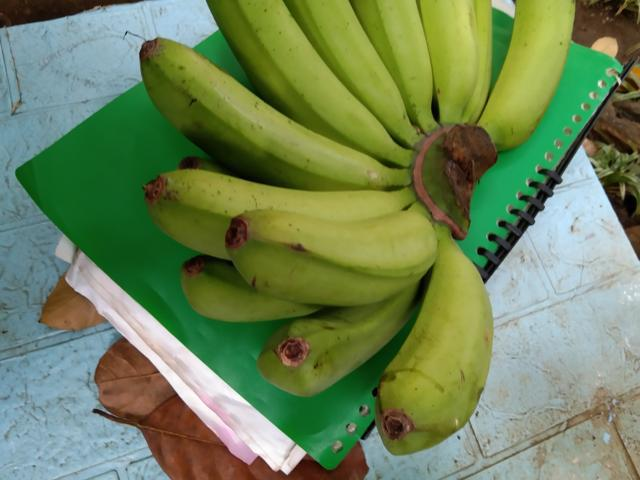freshunripe: (136, 33, 385, 188), (210, 0, 416, 160), (369, 251, 501, 463), (223, 199, 444, 317), (148, 160, 405, 245), (252, 295, 418, 404), (479, 0, 577, 161), (169, 242, 294, 333), (414, 0, 496, 128)
